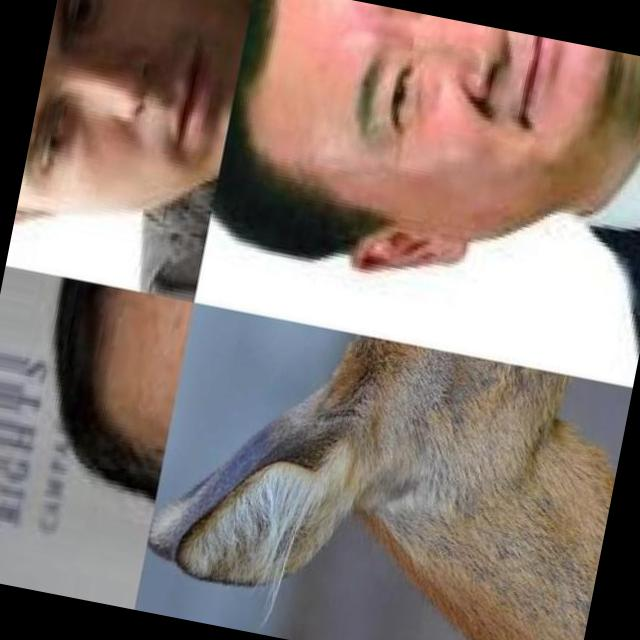bareface: (221, 0, 606, 299)
